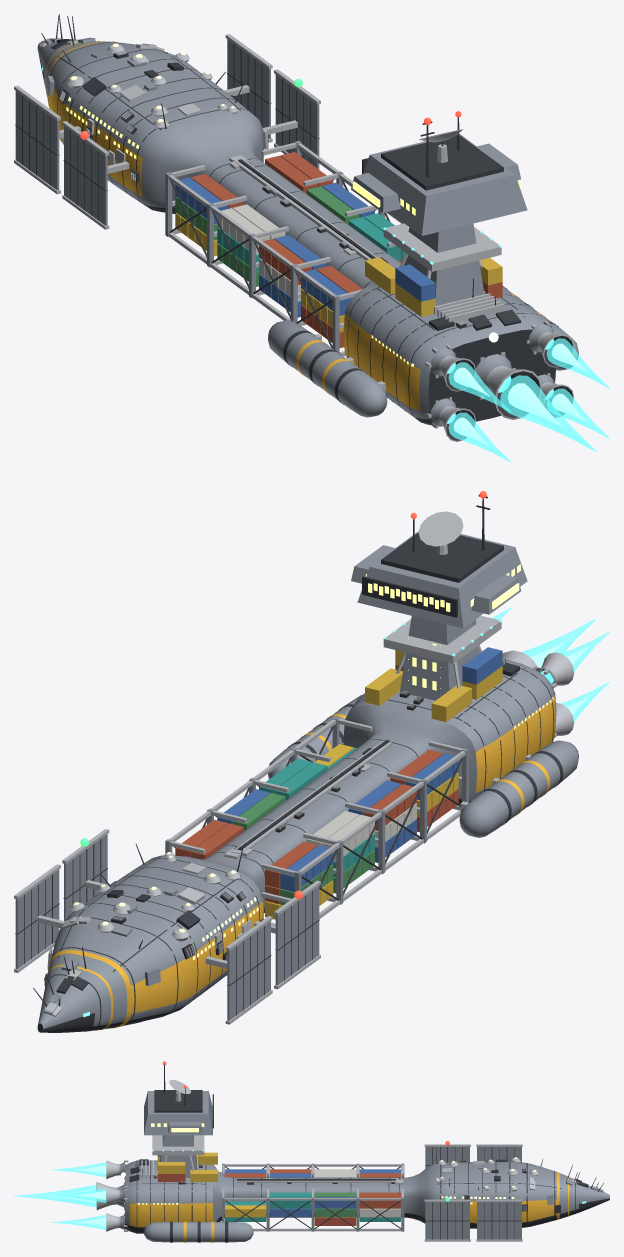
The model's file is ship_freighter.glb.
3 views of the same model, one above another, from view 1: azimuth 30°, elevation 25°; view 2: azimuth 150°, elevation 25°; view 3: azimuth 270°, elevation 25° (orthographic). The views are drawn at different scales.
Visible parts, largest first — view 1: Hull, Containers, Engines, EngineGlow_0, EngineGlow_4, EngineGlow_3, EngineGlow_1, EngineGlow_2; view 2: Hull, Containers, Engines, EngineGlow_0; view 3: Hull, Containers, Engines, EngineGlow_0, EngineGlow_3, EngineGlow_4, EngineGlow_2.
Part boxes in pixels (x1,y1,x2,y2): Hull: (14,14,578,425); Containers: (175,152,502,347); Engines: (425,320,574,441); EngineGlow_0: (500,375,595,451); EngineGlow_4: (546,338,609,388); EngineGlow_3: (448,362,511,412); EngineGlow_1: (448,412,511,462); EngineGlow_2: (547,388,609,438); Hull: (14,494,578,1032); Containers: (175,647,502,919); Engines: (502,650,574,737); EngineGlow_0: (521,618,595,669); Hull: (125,1064,609,1242); Containers: (157,1152,400,1225); Engines: (96,1160,128,1231); EngineGlow_0: (14,1185,96,1207); EngineGlow_3: (52,1162,106,1177); EngineGlow_4: (52,1188,106,1202); EngineGlow_2: (52,1215,106,1229).
Bounding box in the file's own units: 40.52 × 49.25 × 173.
